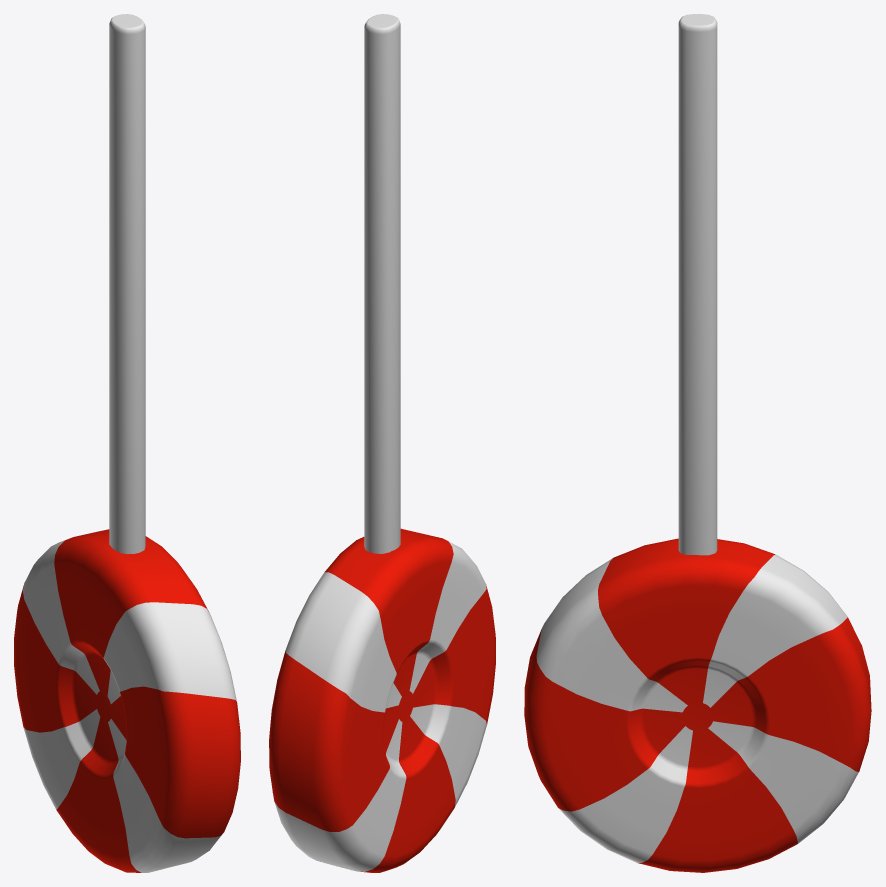
Rendered from Sweet_12.fbx.
3 renders of one model, left to right at view 1: azimuth 30°, elevation 25°; view 2: azimuth 150°, elevation 25°; view 3: azimuth 270°, elevation 25°, orthographic.
Parts seen in each view (by area): view 1: Sweet_12; view 2: Sweet_12; view 3: Sweet_12.
Part boxes in pixels (x1,y1,x2,y2): Sweet_12: (14,14,240,872); Sweet_12: (269,14,495,872); Sweet_12: (524,14,871,872).
Size of the model in its own units: 17.98 by 202 by 75.27.
